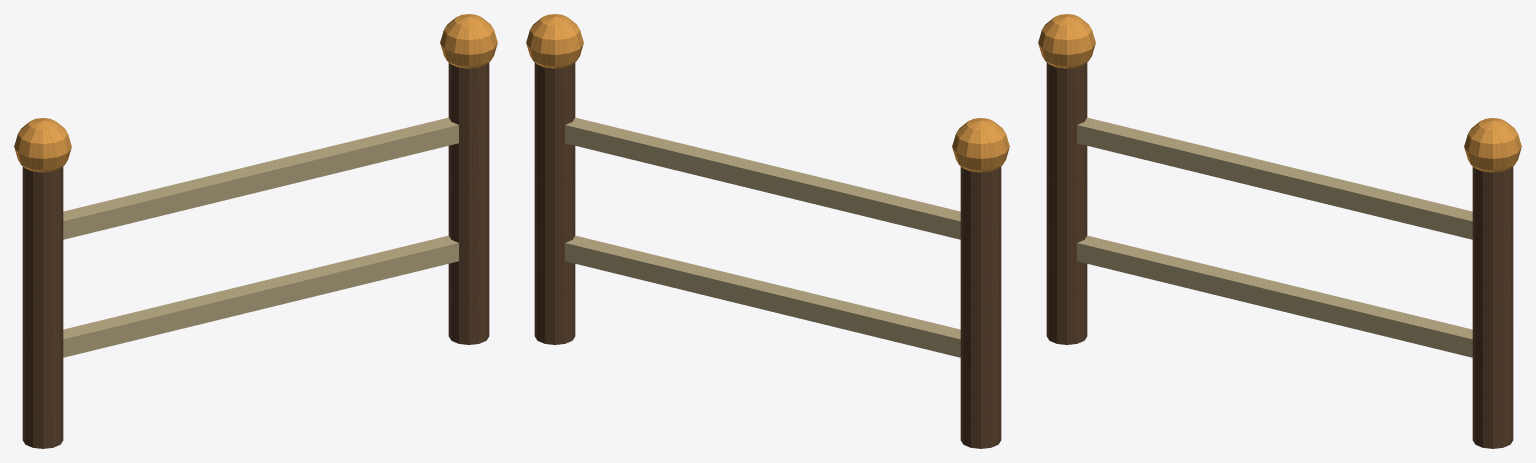
Rendered from atlas100-clockwork-util04.glb.
3 renders of one model, left to right at view 1: azimuth 30°, elevation 25°; view 2: azimuth 150°, elevation 25°; view 3: azimuth 330°, elevation 25°, orthographic.
Visible parts, largest first — view 1: atlas100-clockwork-util04:part-000, atlas100-clockwork-util04:part-004, atlas100-clockwork-util04:part-005, atlas100-clockwork-util04:part-002, atlas100-clockwork-util04:part-003, atlas100-clockwork-util04:part-001; view 2: atlas100-clockwork-util04:part-000, atlas100-clockwork-util04:part-004, atlas100-clockwork-util04:part-005, atlas100-clockwork-util04:part-002, atlas100-clockwork-util04:part-003, atlas100-clockwork-util04:part-001; view 3: atlas100-clockwork-util04:part-002, atlas100-clockwork-util04:part-004, atlas100-clockwork-util04:part-005, atlas100-clockwork-util04:part-000, atlas100-clockwork-util04:part-001, atlas100-clockwork-util04:part-003.
Boxes of the visible parts, box(x1,y1,x2,y2) form: atlas100-clockwork-util04:part-000: box(22, 166, 63, 448); atlas100-clockwork-util04:part-004: box(63, 235, 458, 357); atlas100-clockwork-util04:part-005: box(63, 117, 458, 239); atlas100-clockwork-util04:part-002: box(448, 62, 489, 344); atlas100-clockwork-util04:part-003: box(440, 14, 497, 68); atlas100-clockwork-util04:part-001: box(14, 118, 71, 172); atlas100-clockwork-util04:part-000: box(960, 166, 1001, 448); atlas100-clockwork-util04:part-004: box(565, 235, 960, 357); atlas100-clockwork-util04:part-005: box(565, 117, 960, 239); atlas100-clockwork-util04:part-002: box(534, 62, 575, 344); atlas100-clockwork-util04:part-003: box(526, 14, 583, 68); atlas100-clockwork-util04:part-001: box(952, 118, 1009, 172); atlas100-clockwork-util04:part-002: box(1472, 166, 1513, 448); atlas100-clockwork-util04:part-004: box(1077, 235, 1472, 357); atlas100-clockwork-util04:part-005: box(1077, 117, 1472, 239); atlas100-clockwork-util04:part-000: box(1046, 62, 1087, 344); atlas100-clockwork-util04:part-001: box(1038, 14, 1095, 68); atlas100-clockwork-util04:part-003: box(1464, 118, 1521, 172).
Size of the model in its own units: 1.9 by 1.22 by 0.2.
Materials: 3 (3 with a texture image).
